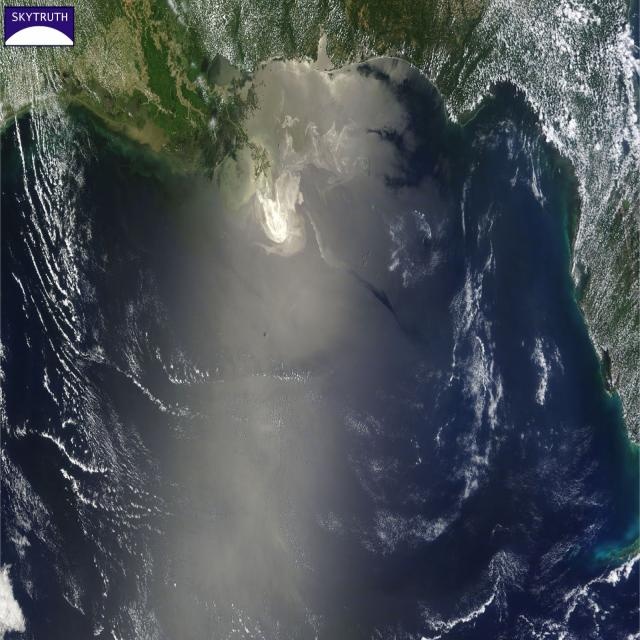oil spill: (256, 168, 305, 254), (388, 210, 439, 288), (308, 128, 357, 202), (256, 170, 299, 244), (305, 210, 346, 270)
